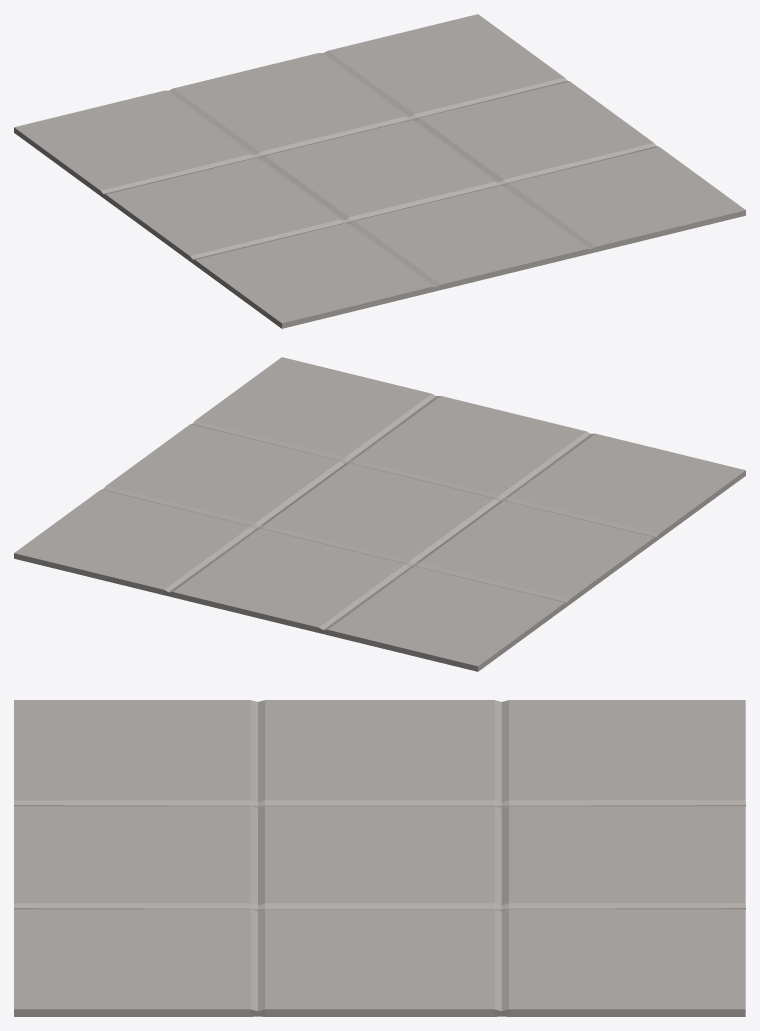
File: SideWalk_1.fbx
3 views of the same model, one above another, from view 1: azimuth 30°, elevation 25°; view 2: azimuth 150°, elevation 25°; view 3: azimuth 270°, elevation 25° (orthographic). The views are drawn at different scales.
Visible parts, largest first — view 1: SideWalk_1; view 2: SideWalk_1; view 3: SideWalk_1.
Part boxes in pixels (bbox=[...]): SideWalk_1: bbox=[14, 14, 745, 328]; SideWalk_1: bbox=[14, 357, 745, 671]; SideWalk_1: bbox=[14, 700, 745, 1016].
Bounding box in the file's own units: 100 × 1.13 × 100.
